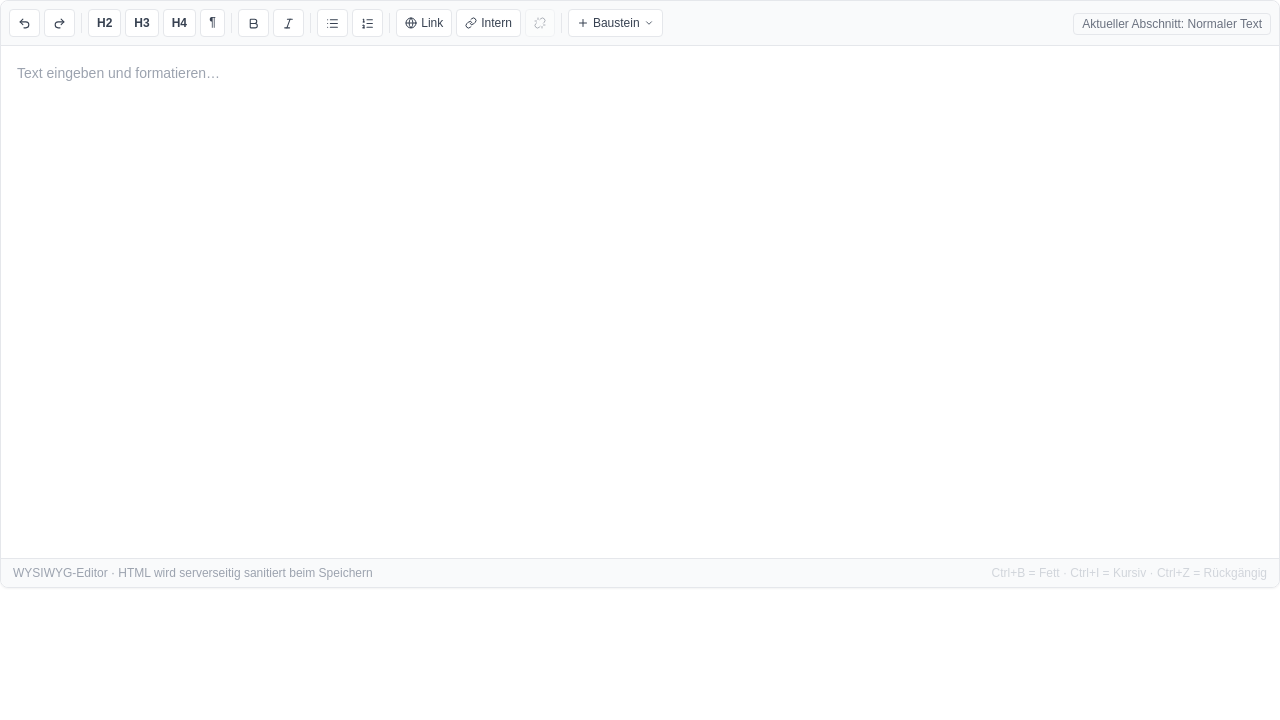
Test case: AdminRichTextEditor: URL-Sicherheit im Link-Panel › Zeigt Fehler bei data:-URL
Press the mouse on the button titled "Externer Link" at (424, 23), box [396,9,452,37]
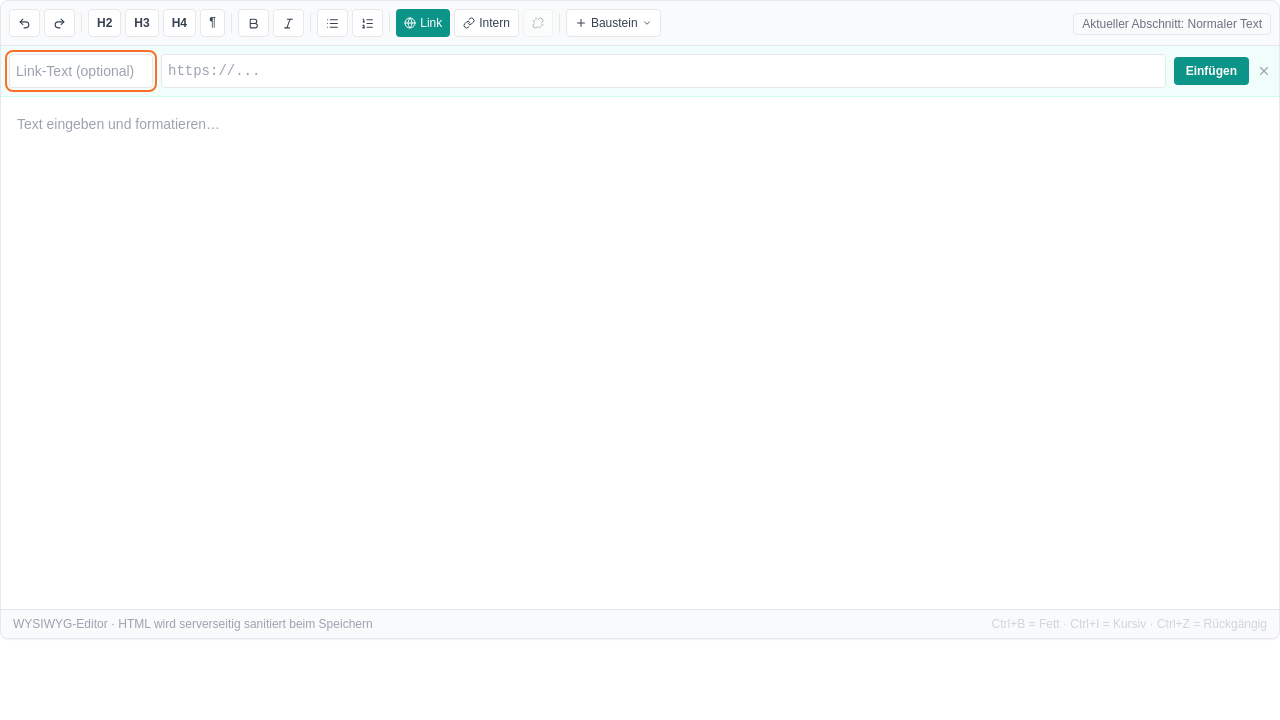
Type "data:text/html,<script>alert(1)</script>" into the field with placeholder "https://...".
click(663, 71); type("data:text/html,<script>alert(1)</script>")  # box [161,54,1166,88]
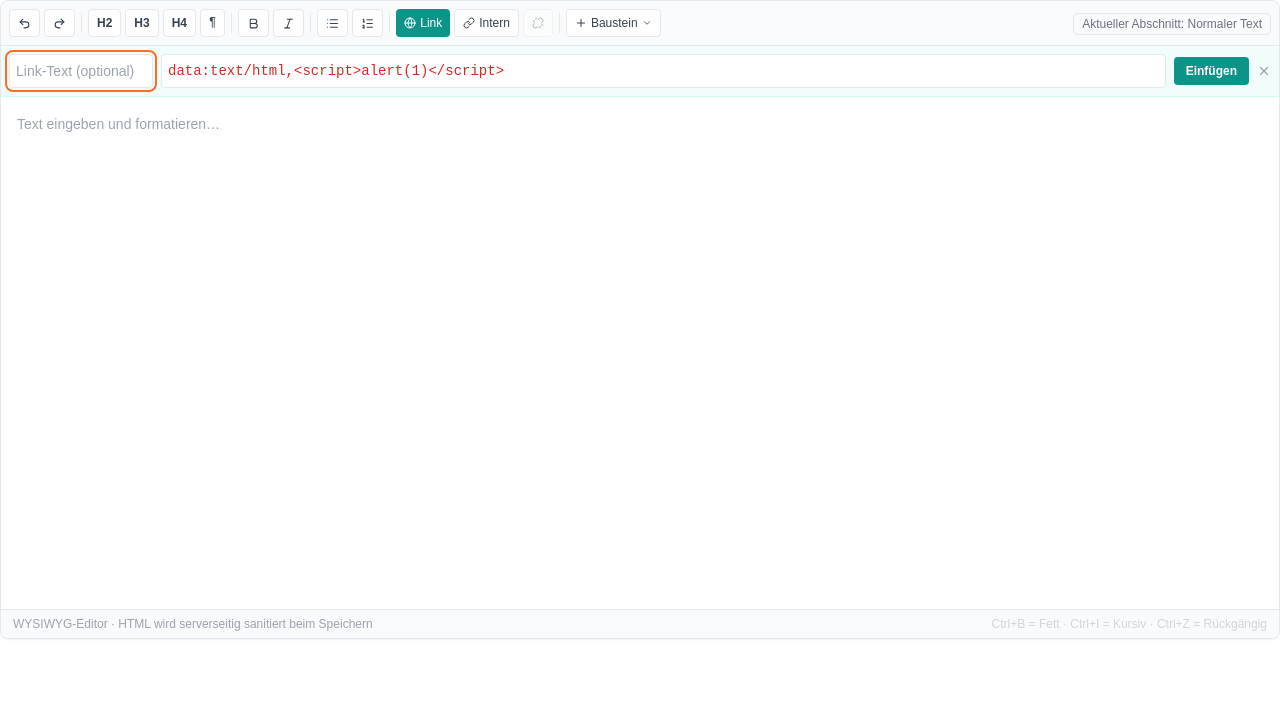
Click the button "Einfügen".
click(1211, 71)  # box [1174,57,1249,85]
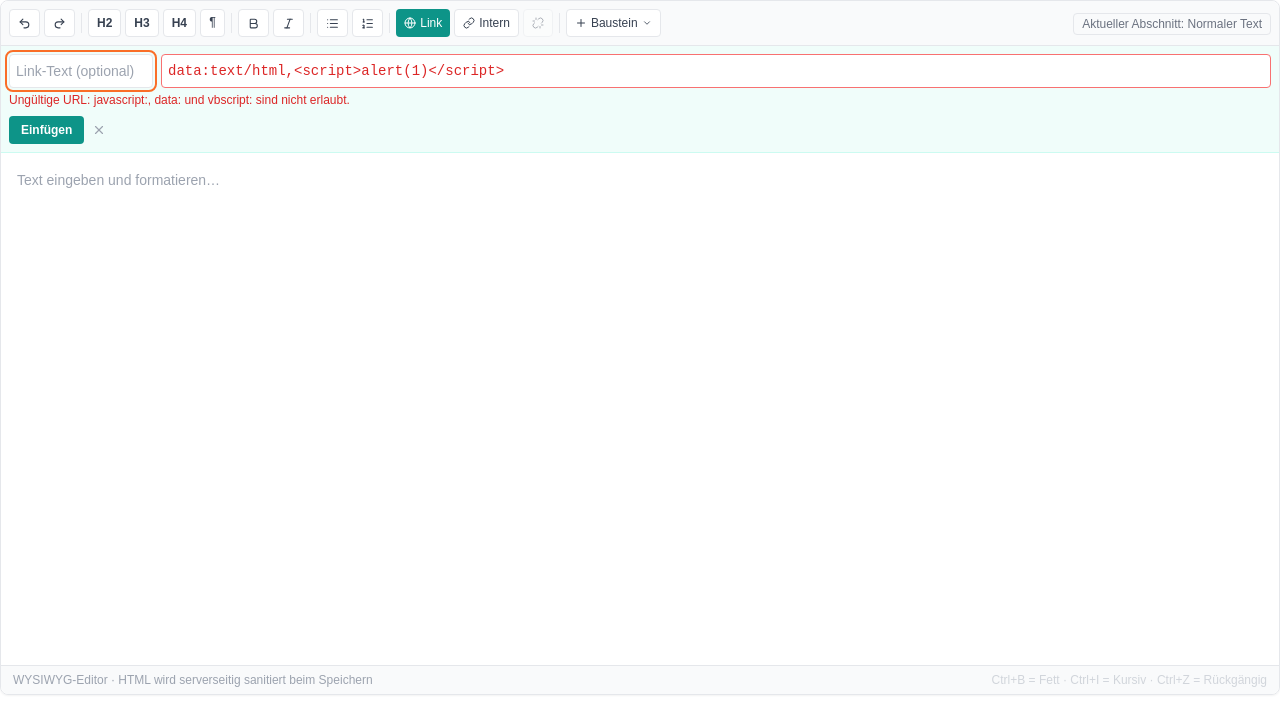
Result: the message shows "data:" at [9,93,350,107]
